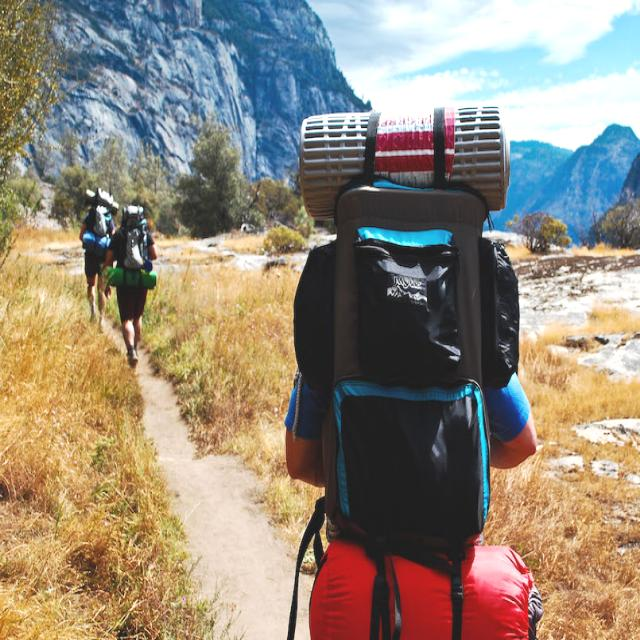backpack: (282, 128, 514, 564), (88, 195, 117, 271), (117, 205, 149, 272)
